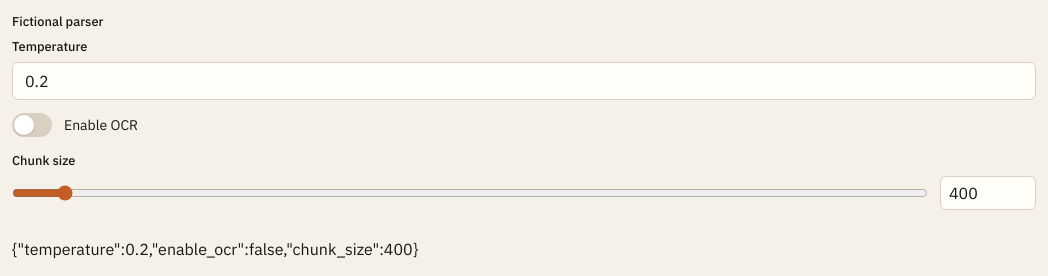
it: SchemaForm › renders fields from an arbitrary schema with no hardcoded keys
Expected: the text "Temperature" is shown, x1=12 y1=38 x2=88 y2=55
Expected: the text "Enable OCR" is shown, x1=64 y1=115 x2=138 y2=135
What coordinates should you click on to do the following:
click the switch
I would click on:
 (32, 125)
Its box is x1=12 y1=113 x2=52 y2=137.
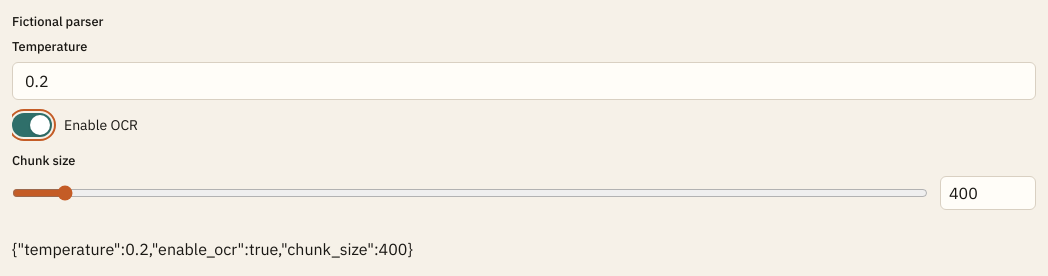
Now the text with test id "form-json" shows "\"enable_ocr\":true", box x1=12 y1=239 x2=413 y2=259
